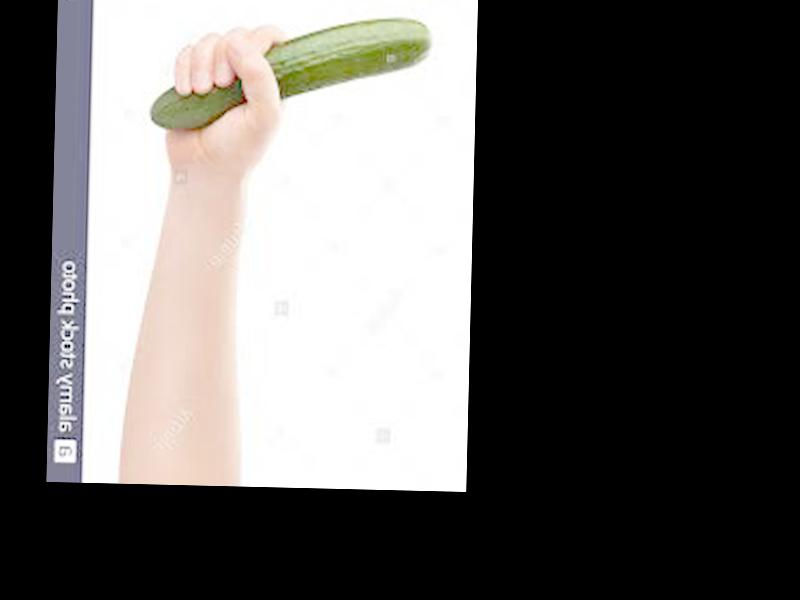Cucumber: (150, 10, 431, 133)
